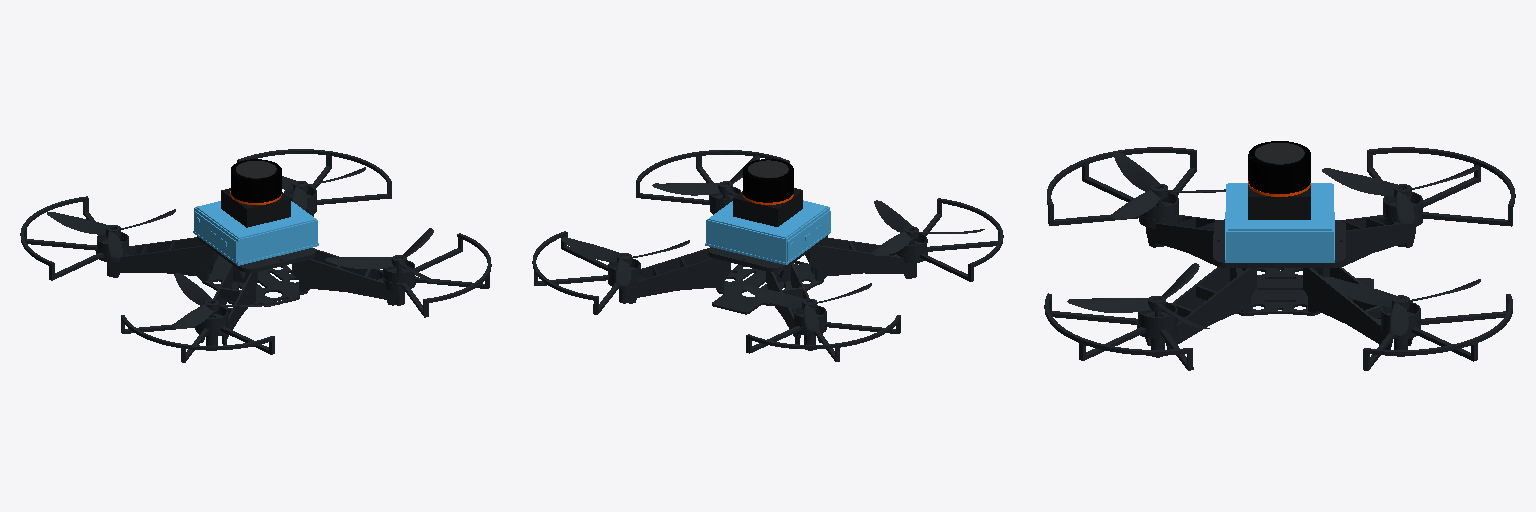
URDF robot description (quadcopter):
<?xml version="1.0" ?>
<robot name="quadcopter">
  <material name="dnav_quadcopter_body"><color rgba="0.16 0.18 0.20 1.0"/></material>
  <material name="nuc13_charcoal"><color rgba="0.105 0.115 0.125 1.0"/></material>
  <material name="nuc13_black"><color rgba="0.018 0.020 0.022 1.0"/></material>
  <material name="nuc13_lid"><color rgba="0.17 0.18 0.19 1.0"/></material>
  <material name="nuc13_front_black"><color rgba="0.012 0.014 0.016 1.0"/></material>
  <material name="nuc13_usb_blue"><color rgba="0.02 0.22 0.72 1.0"/></material>
  <material name="nuc13_power_silver"><color rgba="0.55 0.58 0.61 1.0"/></material>
  <material name="nuc13_rubber"><color rgba="0.01 0.01 0.01 1.0"/></material>
  <material name="mid360_dark_gray"><color rgba="0.12 0.13 0.14 1.0"/></material>
  <material name="mid360_black"><color rgba="0.025 0.025 0.025 1.0"/></material>
  <material name="mid360_orange"><color rgba="1.0 0.31 0.0 1.0"/></material>
  <material name="mid360_top_gray"><color rgba="0.18 0.19 0.20 1.0"/></material>
  <link name="base_link">
    <inertial>
      <mass value="1.54"/>
      <origin rpy="0 0 0" xyz="0 0 0"/>
      <inertia ixx="0.1152" ixy="0" ixz="0" iyy="0.1152" iyz="0" izz="0.218"/>
    </inertial>
    <collision name="quadcotper__collision">
      <origin rpy="0 0 0" xyz="0   0   -0.02"/>
      <geometry>
        <mesh filename="package://dnav_gazebo/urdf/quadcopter/meshes/CERLAB_quadcopter_clean.stl" scale="1.5 1.5 1.5"/>
      </geometry>
    </collision>
    <visual name="quadcotper__visual">
       <origin rpy="0 0 0" xyz="0   0   -0.02"/>
        <geometry>
          <mesh filename="package://dnav_gazebo/urdf/quadcopter/meshes/CERLAB_quadcopter_clean.stl" scale="1.5 1.5 1.5"/>
        </geometry>
        <material name="dnav_quadcopter_body"/>
    </visual>
  </link>

  <gazebo reference="quadcopter">
  	<material>quadcopter/Diffusion</material>
  </gazebo>

  <gazebo reference="base_link">
    <sensor name="dnav_contact_sensor" type="contact">
      <always_on>true</always_on>
      <update_rate>100</update_rate>
      <contact>
        <!-- Gazebo's URDF fixed-joint reduction prefixes and suffixes this
             collision when nuc13_link and mid360_link are lumped. -->
        <collision>base_link_fixed_joint_lump__quadcotper__collision_collision</collision>
      </contact>
      <plugin name="dnav_contact_publisher" filename="libgazebo_ros_bumper.so">
        <bumperTopicName>/dnav/uav/contacts</bumperTopicName>
        <frameName>base_link</frameName>
      </plugin>
    </sensor>
  </gazebo>


  <gazebo>
    <plugin name='quadcopter_gazebo_plugin' filename='libdnav_quadcopter_plugin.so'>
        <bodyName>base_link</bodyName>
        <cmdTopic>/dnav/uav/cmd_vel</cmdTopic>
        <cmdTimeout>0.5</cmdTimeout>
        <flightStateTopic>/dnav/uav/flight_state</flightStateTopic>
        <flightStatePublishPeriod>0.02</flightStatePublishPeriod>
        <rollpitchProportionalGain>10.0</rollpitchProportionalGain>
        <rollpitchDifferentialGain>5.0</rollpitchDifferentialGain>
        <rollpitchLimit>1.0</rollpitchLimit>
        <yawProportionalGain>1.5</yawProportionalGain>
        <yawDifferentialGain>1.0</yawDifferentialGain>
        <yawLimit>1.5</yawLimit>
        <yawAngleProportionalGain>3.0</yawAngleProportionalGain>
        <yawAngleLimit>3.15</yawAngleLimit>
        <velocityXYProportionalGain>5.0</velocityXYProportionalGain>
        <velocityXYDifferentialGain>2.3</velocityXYDifferentialGain>
        <velocityXYLimit>2</velocityXYLimit>
        <velocityZProportionalGain>5.0</velocityZProportionalGain>
        <velocityZDifferentialGain>0.5</velocityZDifferentialGain>
        <velocityZLimit>-1</velocityZLimit>
        <positionXYProportionalGain>1.2</positionXYProportionalGain>
        <positionXYDifferentialGain>0.1</positionXYDifferentialGain>
        <positionXYIntegralGain>0.0</positionXYIntegralGain>
        <positionXYLimit>-1</positionXYLimit>
        <positionZProportionalGain>1.0</positionZProportionalGain>
        <positionZDifferentialGain>0.2</positionZDifferentialGain>
        <positionZLimit>-1</positionZLimit>
        <accelerationXYProportionalGain>15.0</accelerationXYProportionalGain>
        <accelerationXYDifferentialGain>0.0</accelerationXYDifferentialGain>
        <accelerationXYIntegralGain>0.0</accelerationXYIntegralGain>
        <accelerationXYLimit>-1</accelerationXYLimit>
        <accelerationZProportionalGain>0.5</accelerationZProportionalGain>
        <accelerationZDifferentialGain>0.0</accelerationZDifferentialGain>
        <accelerationZLimit>-1</accelerationZLimit>
        <maxForce>60</maxForce>
        <motionSmallNoise>0.05</motionSmallNoise>
        <motionDriftNoise>0.03</motionDriftNoise>
        <motionDriftNoiseTime>5.0</motionDriftNoiseTime>
    </plugin>
  </gazebo>

  <!--
    Intel NUC 13 Pro slim chassis visual (117 x 112 x 37 mm).
    It is mounted directly above the cleaned center frame.  The negligible
    inertial values intentionally preserve the controller's tuned vehicle mass.
  -->
  <link name="nuc13_link">
    <inertial>
      <mass value="0.001"/>
      <inertia ixx="1e-6" iyy="1e-6" izz="1e-6" ixy="0" ixz="0" iyz="0"/>
    </inertial>
    <visual name="nuc13_pro_slim_visual">
      <geometry><mesh filename="package://dnav_gazebo/urdf/quadcopter/meshes/nuc13_pro_slim.obj"/></geometry>
    </visual>
  </link>
  <joint name="nuc13_joint" type="fixed">
    <parent link="base_link"/><child link="nuc13_link"/>
    <!-- Align with the cleaned frame deck center and rest the NUC feet on it. -->
    <origin xyz="0.01416 -0.00296 0.06820" rpy="0 0 0"/>
  </joint>
  <gazebo reference="nuc13_joint">
    <preserveFixedJoint>true</preserveFixedJoint>
  </gazebo>
  <!--
    Livox Mid-360 visual approximation (65 x 65 x 60 mm overall).
    Keep this link free of collision geometry so the simulated rays cannot hit
    the sensor housing itself.  The gpu_ray origin remains at mid360_link.
  -->
  <link name="mid360_link">
    <inertial>
      <mass value="0.001"/>
      <inertia ixx="1e-6" iyy="1e-6" izz="1e-6" ixy="0" ixz="0" iyz="0"/>
    </inertial>
    <visual name="mid360_lower_housing">
      <origin xyz="0 0 -0.017" rpy="0 0 0"/>
      <geometry><box size="0.065 0.065 0.026"/></geometry>
      <material name="mid360_dark_gray"/>
    </visual>
    <visual name="mid360_scanner_head">
      <origin xyz="0 0 0.013" rpy="0 0 0"/>
      <geometry><cylinder radius="0.0325" length="0.034"/></geometry>
      <material name="mid360_black"/>
    </visual>
    <visual name="mid360_orange_band">
      <origin xyz="0 0 -0.0025" rpy="0 0 0"/>
      <geometry><cylinder radius="0.0327" length="0.003"/></geometry>
      <material name="mid360_orange"/>
    </visual>
    <visual name="mid360_top_cap">
      <origin xyz="0 0 0.0305" rpy="0 0 0"/>
      <geometry><cylinder radius="0.026" length="0.001"/></geometry>
      <material name="mid360_top_gray"/>
    </visual>
  </link>
  <!-- Mid-360 center stays on the NUC/frame vertical axis; its base touches the NUC lid. -->
  <joint name="mid360_joint" type="fixed"><parent link="nuc13_link"/><child link="mid360_link"/><origin xyz="0 0 0.0490" rpy="0 0 0"/></joint>
  <gazebo reference="mid360_joint">
    <preserveFixedJoint>true</preserveFixedJoint>
  </gazebo>
  <gazebo reference="mid360_link">
    <material>Gazebo/Black</material>
    <sensor name="mid360" type="gpu_ray">
      <pose>0 0 0 0 0 0</pose><always_on>true</always_on><update_rate>10</update_rate><visualize>false</visualize>
      <ray><scan>
        <!-- 360 x 16 = 5760 raw rays, matching the training frame budget. -->
        <horizontal><samples>360</samples><resolution>1</resolution><min_angle>-3.1328660073</min_angle><max_angle>3.1328660073</max_angle></horizontal>
        <vertical><samples>16</samples><resolution>1</resolution><min_angle>-0.1221730476</min_angle><max_angle>0.9075712110</max_angle></vertical>
      </scan><range><min>0.05</min><max>10.0</max><resolution>0.01</resolution></range>
      <noise><type>gaussian</type><mean>0.0</mean><stddev>0.01</stddev></noise></ray>
      <plugin name="mid360_ros_gpu_laser" filename="libgazebo_ros_gpu_laser.so">
        <robotNamespace>/dnav</robotNamespace><topicName>/dnav/uav/mid360/scan</topicName><frameName>mid360_link</frameName>
        <gaussianNoise>0.01</gaussianNoise><updateRate>10.0</updateRate><alwaysOn>true</alwaysOn>
      </plugin>
    </sensor>
  </gazebo>
</robot>

--- Facts derived from the render (not from the file) ---
3 views of the same robot in one strip: view 1: azimuth 30°, elevation 25°; view 2: azimuth 150°, elevation 25°; view 3: azimuth 270°, elevation 25° (orthographic).
Robot: quadcopter — 3 links, 2 joints (2 fixed); root link base_link; default pose: all joints at 0.
Visible links, largest first — view 1: base_link, nuc13_link, mid360_link; view 2: base_link, nuc13_link, mid360_link; view 3: base_link, nuc13_link, mid360_link.
Link boxes in pixels (x1,y1,x2,y2): base_link: (20,149,491,362); nuc13_link: (193,201,318,265); mid360_link: (221,159,290,227); base_link: (532,150,1003,361); nuc13_link: (705,200,830,264); mid360_link: (733,159,802,226); base_link: (1044,147,1515,370); nuc13_link: (1225,183,1334,262); mid360_link: (1248,141,1310,219).
Size in the robot's own frame: 0.5087 by 0.4896 by 0.1682 metres.
Meshes: 2 distinct files referenced, 2 mesh visuals loaded (1 binary STL, 1 OBJ).
